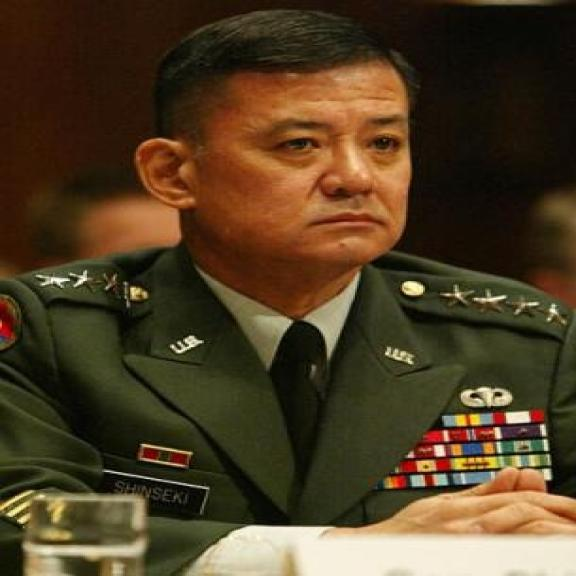face: (136, 48, 418, 272)
